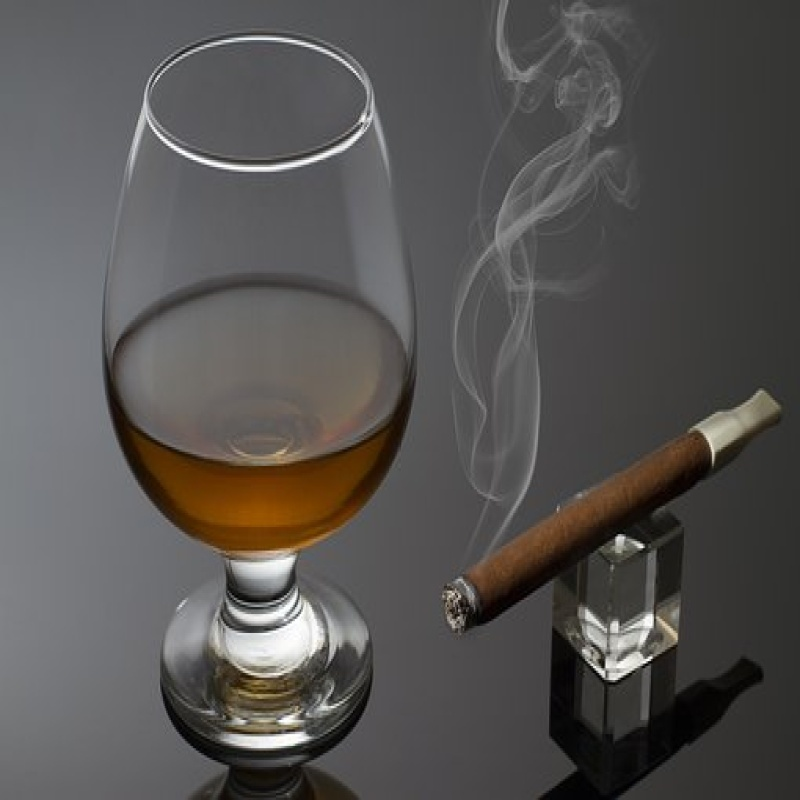whiskey: (97, 30, 414, 549)
